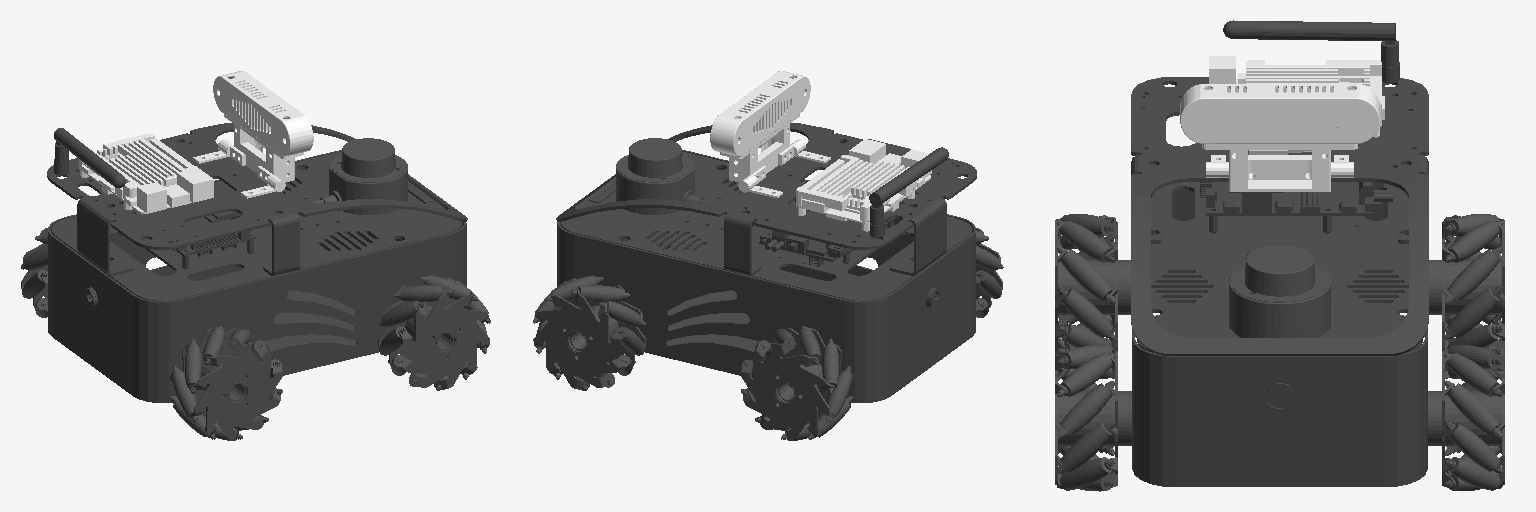
robot.urdf — r3s_mec_robot:
<?xml version="1.0" encoding="utf-8"?>
<!-- This URDF was automatically created by SolidWorks to URDF Exporter! Originally created by [author] ([email redacted]) 
     Commit Version: 1.6.0-4-g7f85cfe  Build Version: 1.6.7995.38578
     For more information, please see http://wiki.ros.org/sw_urdf_exporter -->
<robot
  name="r3s_mec_robot">
  <link
    name="base_link">
    <inertial>
      <origin
        xyz="-0.00658271210809724 0.000569960640804681 0.0414948422314003"
        rpy="0 0 0" />
      <mass
        value="0.486844981490714" />
      <inertia
        ixx="0.000728879704405369"
        ixy="-1.95581978182495E-06"
        ixz="1.38866314723912E-05"
        iyy="0.00137349892998219"
        iyz="1.27363604508813E-06"
        izz="0.00198018890840461" />
    </inertial>
    <visual>
      <origin
        xyz="0 0 0"
        rpy="0 0 0" />
      <geometry>
        <mesh
          filename="package://wheeltec_robot_urdf/meshes/r3s_mec_robot_meshes/base_link.STL" />
      </geometry>
      <material
        name="">
        <color
          rgba="0.349019607843137 0.349019607843137 0.349019607843137 1" />
      </material>
    </visual>
    <collision>
      <origin
        xyz="0 0 0"
        rpy="0 0 0" />
      <geometry>
        <mesh
          filename="package://wheeltec_robot_urdf/meshes/r3s_mec_robot_meshes/base_link.STL" />
      </geometry>
    </collision>
  </link>
  <link
    name="lf_wheel_link">
    <inertial>
      <origin
        xyz="-7.70853984810582E-10 -0.00391716682736307 -1.4561503738908E-10"
        rpy="0 0 0" />
      <mass
        value="0.0575555911293518" />
      <inertia
        ixx="2.10755821421772E-05"
        ixy="-2.16920667058315E-13"
        ixz="-1.66749355467763E-13"
        iyy="3.40216676430615E-05"
        iyz="-3.16177321306463E-14"
        izz="2.10755819831363E-05" />
    </inertial>
    <visual>
      <origin
        xyz="0 0 0"
        rpy="0 0 0" />
      <geometry>
        <mesh
          filename="package://wheeltec_robot_urdf/meshes/r3s_mec_robot_meshes/lf_wheel_link.STL" />
      </geometry>
      <material
        name="">
        <color
          rgba="0.376470588235294 0.376470588235294 0.376470588235294 1" />
      </material>
    </visual>
    <collision>
      <origin
        xyz="0 0 0"
        rpy="0 0 0" />
      <geometry>
        <mesh
          filename="package://wheeltec_robot_urdf/meshes/r3s_mec_robot_meshes/lf_wheel_link.STL" />
      </geometry>
    </collision>
  </link>
  <joint
    name="lf_wheel_joint"
    type="continuous">
    <origin
      xyz="0.0759419119540792 0.0983014469516561 0.0167"
      rpy="0 0 0" />
    <parent
      link="base_link" />
    <child
      link="lf_wheel_link" />
    <axis
      xyz="0 -1 0" />
  </joint>
  <link
    name="lb_wheel_link">
    <inertial>
      <origin
        xyz="8.27298508865315E-09 -0.00391801534011008 2.33900100711504E-08"
        rpy="0 0 0" />
      <mass
        value="0.0575546594328681" />
      <inertia
        ixx="2.10751269181675E-05"
        ixy="-1.20264905096543E-12"
        ixz="-7.94357439958831E-12"
        iyy="3.40209427021929E-05"
        iyz="5.32083294576981E-12"
        izz="2.10751450994036E-05" />
    </inertial>
    <visual>
      <origin
        xyz="0 0 0"
        rpy="0 0 0" />
      <geometry>
        <mesh
          filename="package://wheeltec_robot_urdf/meshes/r3s_mec_robot_meshes/lb_wheel_link.STL" />
      </geometry>
      <material
        name="">
        <color
          rgba="0.376470588235294 0.376470588235294 0.376470588235294 1" />
      </material>
    </visual>
    <collision>
      <origin
        xyz="0 0 0"
        rpy="0 0 0" />
      <geometry>
        <mesh
          filename="package://wheeltec_robot_urdf/meshes/r3s_mec_robot_meshes/lb_wheel_link.STL" />
      </geometry>
    </collision>
  </link>
  <joint
    name="lb_wheel_joint"
    type="continuous">
    <origin
      xyz="-0.0816580880459208 0.0983054469516561 0.0167"
      rpy="0 0 0" />
    <parent
      link="base_link" />
    <child
      link="lb_wheel_link" />
    <axis
      xyz="0 1 0" />
  </joint>
  <link
    name="rb_wheel_link">
    <inertial>
      <origin
        xyz="7.24978507782303E-10 0.00391716682736308 2.99709913137436E-10"
        rpy="0 0 0" />
      <mass
        value="0.0575555911293519" />
      <inertia
        ixx="2.10755819418964E-05"
        ixy="-1.98892413173438E-13"
        ixz="1.39806284049536E-13"
        iyy="3.40216676430614E-05"
        iyz="-9.21741113361527E-14"
        izz="2.10755821834171E-05" />
    </inertial>
    <visual>
      <origin
        xyz="0 0 0"
        rpy="0 0 0" />
      <geometry>
        <mesh
          filename="package://wheeltec_robot_urdf/meshes/r3s_mec_robot_meshes/rb_wheel_link.STL" />
      </geometry>
      <material
        name="">
        <color
          rgba="0.376470588235294 0.376470588235294 0.376470588235294 1" />
      </material>
    </visual>
    <collision>
      <origin
        xyz="0 0 0"
        rpy="0 0 0" />
      <geometry>
        <mesh
          filename="package://wheeltec_robot_urdf/meshes/r3s_mec_robot_meshes/rb_wheel_link.STL" />
      </geometry>
    </collision>
  </link>
  <joint
    name="rb_wheel_joint"
    type="continuous">
    <origin
      xyz="-0.0816580880459208 -0.0982745530483439 0.0167"
      rpy="0 0 0" />
    <parent
      link="base_link" />
    <child
      link="rb_wheel_link" />
    <axis
      xyz="0 1 0" />
  </joint>
  <link
    name="rf_wheel_link">
    <inertial>
      <origin
        xyz="-2.03118767638788E-08 0.00391801536357496 1.47898364041832E-08"
        rpy="0 0 0" />
      <mass
        value="0.0575546595056713" />
      <inertia
        ixx="2.10751249334216E-05"
        ixy="1.27911217452893E-12"
        ixz="-5.19497190132298E-12"
        iyy="3.40209423643432E-05"
        iyz="-5.39837364479759E-12"
        izz="2.1075146790306E-05" />
    </inertial>
    <visual>
      <origin
        xyz="0 0 0"
        rpy="0 0 0" />
      <geometry>
        <mesh
          filename="package://wheeltec_robot_urdf/meshes/r3s_mec_robot_meshes/rf_wheel_link.STL" />
      </geometry>
      <material
        name="">
        <color
          rgba="0.376470588235294 0.376470588235294 0.376470588235294 1" />
      </material>
    </visual>
    <collision>
      <origin
        xyz="0 0 0"
        rpy="0 0 0" />
      <geometry>
        <mesh
          filename="package://wheeltec_robot_urdf/meshes/r3s_mec_robot_meshes/rf_wheel_link.STL" />
      </geometry>
    </collision>
  </link>
  <joint
    name="rf_wheel_joint"
    type="continuous">
    <origin
      xyz="0.0759419119540792 -0.0982785530483439 0.0167"
      rpy="0 0 0" />
    <parent
      link="base_link" />
    <child
      link="rf_wheel_link" />
    <axis
      xyz="0 -1 0" />
  </joint>
  <link
    name="camera_link">
    <inertial>
      <origin
        xyz="-4.45004837215657E-08 -3.25846249904076E-07 -0.0139995077279642"
        rpy="0 0 0" />
      <mass
        value="0.0285970249307156" />
      <inertia
        ixx="2.49063659552752E-05"
        ixy="1.41446622396731E-09"
        ixz="-3.44746104888009E-07"
        iyy="8.10339394659798E-06"
        iyz="8.7411817335606E-09"
        izz="1.91138588188251E-05" />
    </inertial>
    <visual>
      <origin
        xyz="0 0 0"
        rpy="0 0 0" />
      <geometry>
        <mesh
          filename="package://wheeltec_robot_urdf/meshes/r3s_mec_robot_meshes/camera_link.STL" />
      </geometry>
      <material
        name="">
        <color
          rgba="1 1 1 1" />
      </material>
    </visual>
    <collision>
      <origin
        xyz="0 0 0"
        rpy="0 0 0" />
      <geometry>
        <mesh
          filename="package://wheeltec_robot_urdf/meshes/r3s_mec_robot_meshes/camera_link.STL" />
      </geometry>
    </collision>
  </link>
  <joint
    name="camera_joint"
    type="fixed">
    <origin
      xyz="0.00160091195407919 -0.00010055304834393 0.152137"
      rpy="0 0 0" />
    <parent
      link="base_link" />
    <child
      link="camera_link" />
    <axis
      xyz="0 0 0" />
  </joint>
  <link
    name="laser_link">
    <inertial>
      <origin
        xyz="0.000735465990626988 2.79287293896135E-07 -0.00549379656778799"
        rpy="0 0 0" />
      <mass
        value="0.000111381912632097" />
      <inertia
        ixx="8.09810255937586E-10"
        ixy="2.48436925682356E-14"
        ixz="-2.38955091202816E-14"
        iyy="8.09668177063905E-10"
        iyz="-2.28917457095815E-15"
        izz="1.17057115150887E-10" />
    </inertial>
    <visual>
      <origin
        xyz="0 0 0"
        rpy="0 0 0" />
      <geometry>
        <mesh
          filename="package://wheeltec_robot_urdf/meshes/r3s_mec_robot_meshes/laser.STL" />
      </geometry>
      <material
        name="">
        <color
          rgba="0.376470588235294 0.376470588235294 0.376470588235294 1" />
      </material>
    </visual>
    <collision>
      <origin
        xyz="0 0 0"
        rpy="0 0 0" />
      <geometry>
        <mesh
          filename="package://wheeltec_robot_urdf/meshes/r3s_mec_robot_meshes/laser.STL" />
      </geometry>
    </collision>
  </link>
  <joint
    name="laser_joint"
    type="fixed">
    <origin
      xyz="0.0834767944381037 1.32296970929568E-05 0.09655"
      rpy="0 0 -3.14159265358979" />
    <parent
      link="base_link" />
    <child
      link="laser_link" />
    <axis
      xyz="0 0 0" />
  </joint>
  <link
    name="controller_link">
    <inertial>
      <origin
        xyz="-0.0254318317483443 0.0178325189887231 0.0120915107345509"
        rpy="0 0 0" />
      <mass
        value="0.0371650711916722" />
      <inertia
        ixx="2.75273128086897E-05"
        ixy="-4.90416948087793E-07"
        ixz="-8.95619686706703E-08"
        iyy="1.08853888864562E-05"
        iyz="3.79055088929114E-07"
        izz="3.7257082402319E-05" />
    </inertial>
    <visual>
      <origin
        xyz="0 0 0"
        rpy="0 0 0" />
      <geometry>
        <mesh
          filename="package://wheeltec_robot_urdf/meshes/r3s_mec_robot_meshes/controller_link.STL" />
      </geometry>
      <material
        name="">
        <color
          rgba="1 1 1 1" />
      </material>
    </visual>
    <collision>
      <origin
        xyz="0 0 0"
        rpy="0 0 0" />
      <geometry>
        <mesh
          filename="package://wheeltec_robot_urdf/meshes/r3s_mec_robot_meshes/controller_link.STL" />
      </geometry>
    </collision>
  </link>
  <joint
    name="controller_joint"
    type="fixed">
    <origin
      xyz="-0.0539080491826598 -0.011432266551253 0.1135"
      rpy="0 0 0" />
    <parent
      link="base_link" />
    <child
      link="controller_link" />
    <axis
      xyz="0 0 0" />
  </joint>
</robot>

--- What the picture shows (computed from the rendered views, not written in the file) ---
The picture shows the robot from 3 angles, left to right: view 1: azimuth 30°, elevation 25°; view 2: azimuth 150°, elevation 25°; view 3: azimuth 270°, elevation 25°; orthographic projection.
Model r3s_mec_robot with 8 links and 7 joints (4 continuous, 3 fixed), rooted at base_link, posed all joints at 0.
Visible links, largest first — view 1: base_link, rb_wheel_link, rf_wheel_link, camera_link, controller_link, laser_link, lb_wheel_link; view 2: base_link, lf_wheel_link, lb_wheel_link, camera_link, controller_link, laser_link, rb_wheel_link; view 3: base_link, camera_link, rf_wheel_link, lf_wheel_link, lb_wheel_link, rb_wheel_link, laser_link, controller_link.
Boxes of the visible links, x1,y1,x2,y2 form: base_link: (47, 123, 467, 402); rb_wheel_link: (170, 326, 282, 440); rf_wheel_link: (378, 275, 490, 390); camera_link: (193, 71, 313, 198); controller_link: (79, 133, 213, 213); laser_link: (310, 138, 407, 214); lb_wheel_link: (21, 228, 47, 317); base_link: (556, 123, 976, 402); lf_wheel_link: (533, 275, 645, 390); lb_wheel_link: (741, 326, 853, 440); camera_link: (710, 71, 830, 197); controller_link: (796, 139, 931, 231); laser_link: (616, 138, 712, 214); rb_wheel_link: (976, 228, 1003, 317); base_link: (1131, 20, 1428, 486); camera_link: (1180, 84, 1379, 191); rf_wheel_link: (1055, 345, 1131, 491); lf_wheel_link: (1428, 345, 1504, 490); lb_wheel_link: (1429, 214, 1504, 351); rb_wheel_link: (1055, 214, 1130, 351); laser_link: (1229, 245, 1330, 337); controller_link: (1209, 56, 1384, 137).
Bounding box of the posed robot: 0.2532 × 0.2286 × 0.1865 m (x, y, z).
Meshes: 8 distinct files referenced, 8 mesh visuals loaded (8 binary STL).